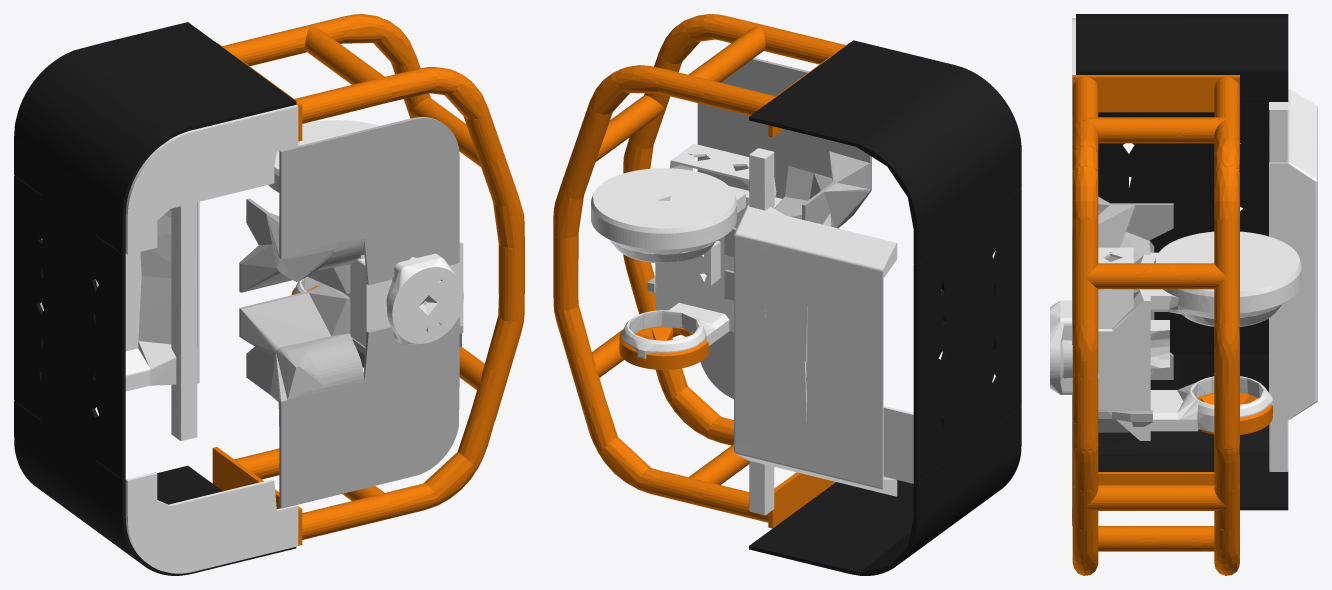
Rendered from CHEST_LINK1_mesh.dae.
3 renders of one model, left to right at view 1: azimuth 30°, elevation 25°; view 2: azimuth 150°, elevation 25°; view 3: azimuth 270°, elevation 25°, orthographic. The views are drawn at different scales.
Visible parts, largest first — view 1: CHEST_LINK1 (×18); view 2: CHEST_LINK1 (×23); view 3: CHEST_LINK1 (×24).
Boxes of the visible parts, left/top/right/bottom form: CHEST_LINK1 (×18): left=14, top=14, right=524, bottom=575; CHEST_LINK1 (×23): left=553, top=14, right=1021, bottom=575; CHEST_LINK1 (×24): left=1050, top=14, right=1317, bottom=575.
Bounding box in the file's own units: 0.3569 × 0.376 × 0.208.
